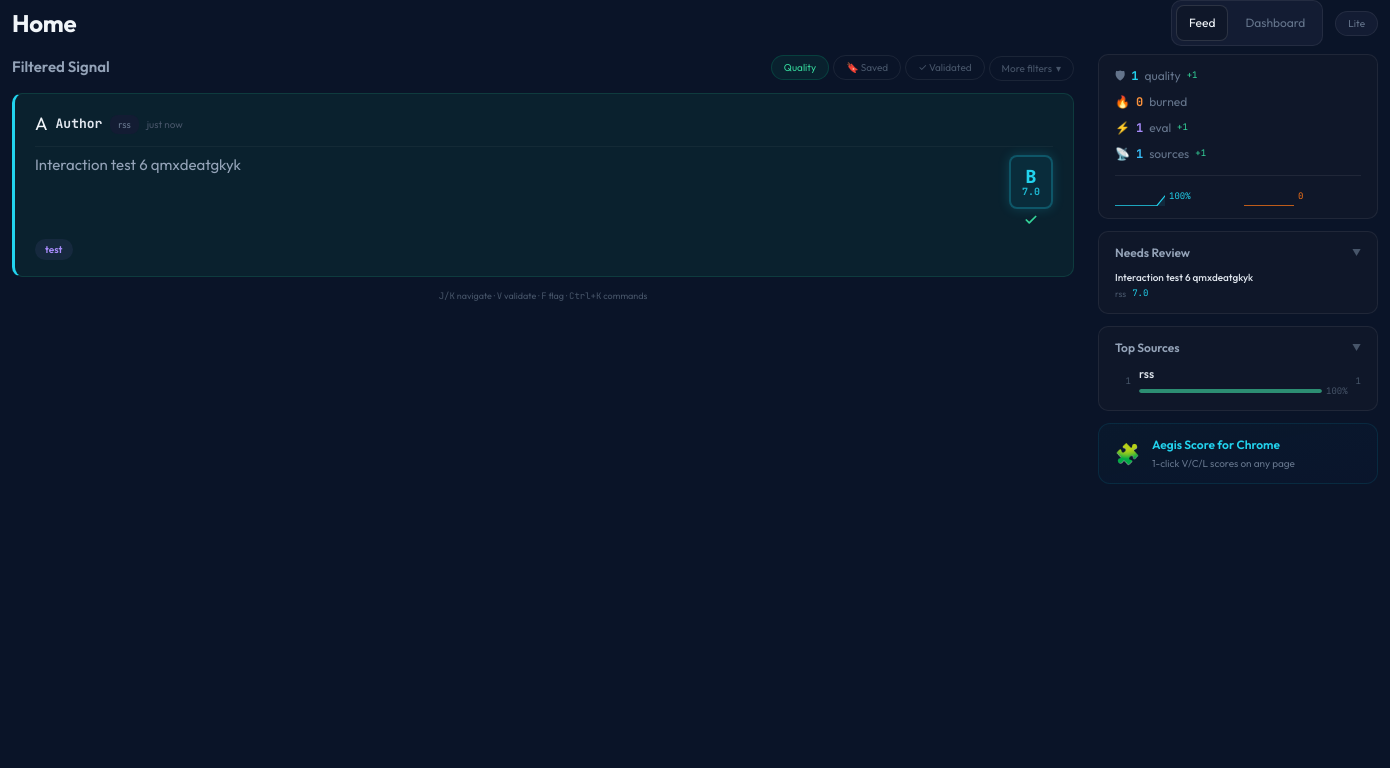
Scenario: DashboardTab — Keyboard shortcut hint › hides keyboard hint in dashboard mode
Click the button with test id "aegis-home-mode-dashboard" at (1275, 23), box [1232,5,1318,41]
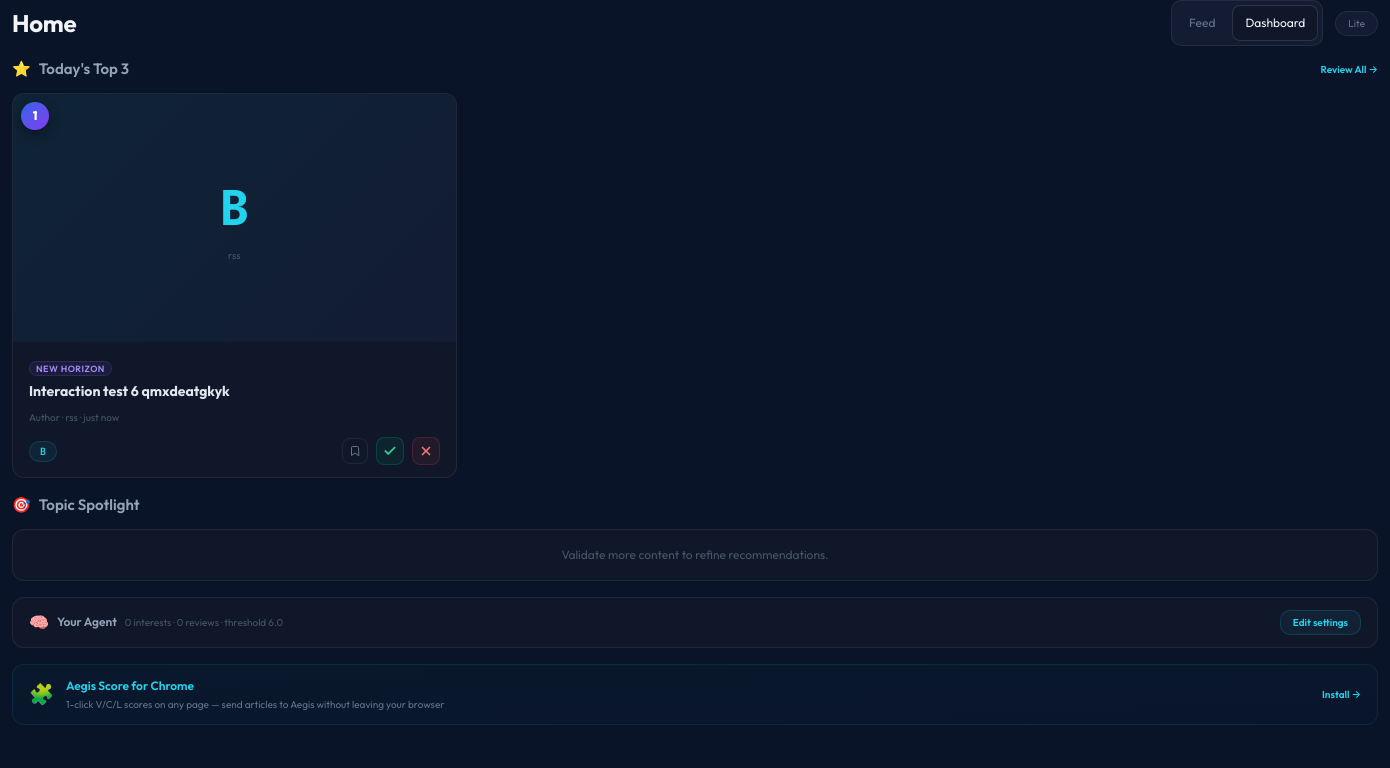
Now the text "J/K" is gone
